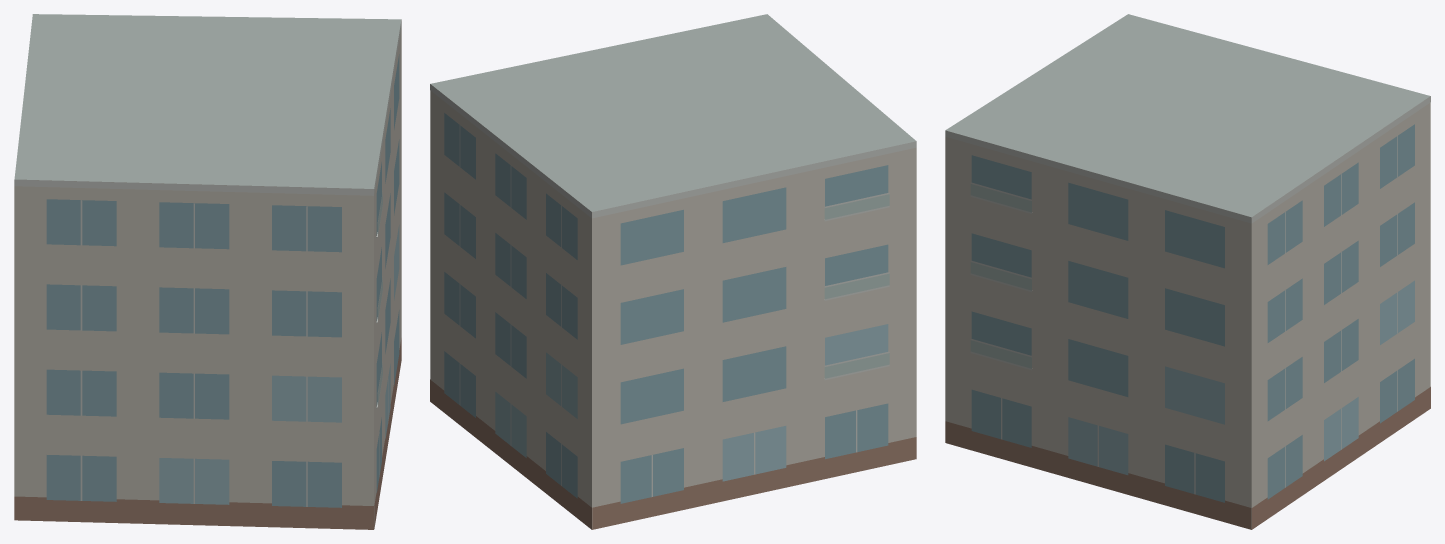
Rendered from survey-upis-32632039.glb.
The picture shows the model from 3 angles, left to right: view 1: azimuth 30°, elevation 25°; view 2: azimuth 150°, elevation 25°; view 3: azimuth 270°, elevation 25°; orthographic projection. The views are drawn at different scales.
Parts seen in each view (by area): view 1: survey-upis-32632039.tmp; view 2: survey-upis-32632039.tmp; view 3: survey-upis-32632039.tmp.
Boxes of the visible parts, x1,y1,x2,y2 form: survey-upis-32632039.tmp: (14, 14, 401, 529); survey-upis-32632039.tmp: (430, 14, 916, 529); survey-upis-32632039.tmp: (945, 14, 1430, 529).
Size of the model in its own units: 17.03 by 12.2 by 17.18.
